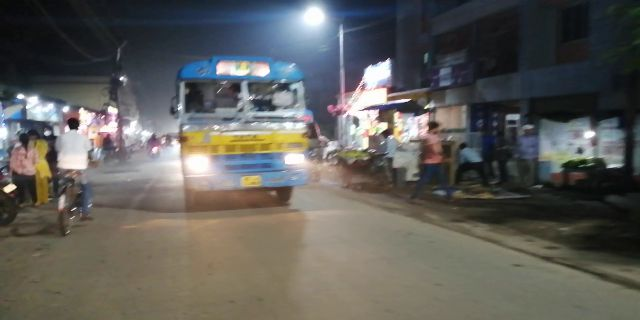Bus: (169, 55, 315, 211)
Cycle: (50, 116, 94, 240)
